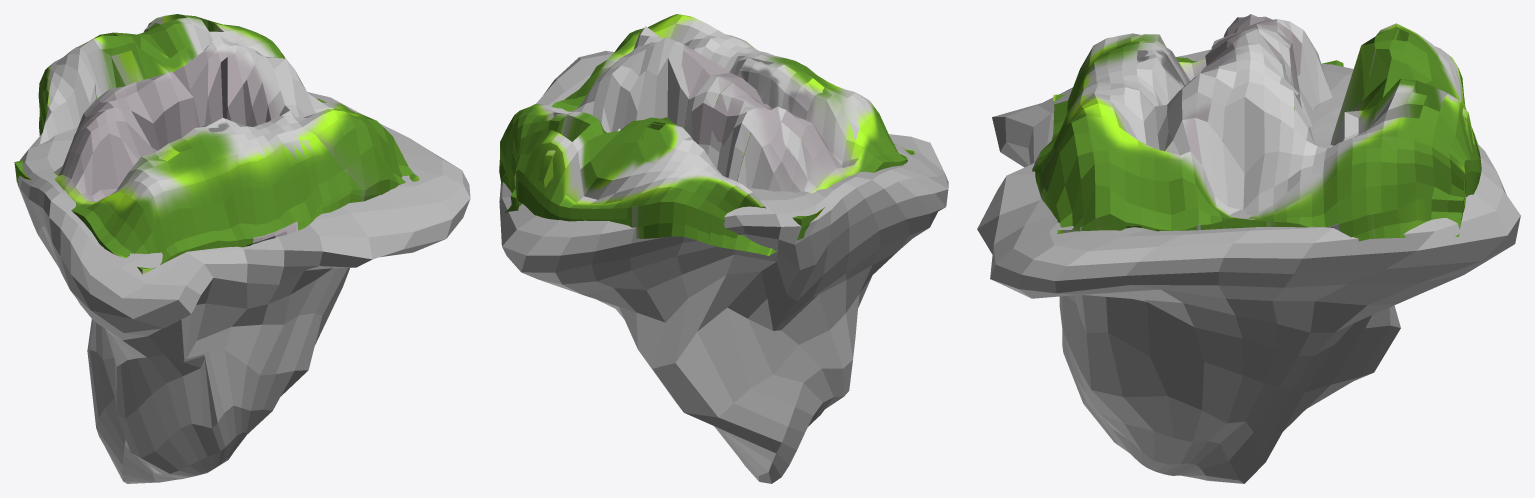
The model's file is landscape.glb.
3 views of the same model, side by side, from view 1: azimuth 30°, elevation 25°; view 2: azimuth 150°, elevation 25°; view 3: azimuth 270°, elevation 25° (orthographic). The views are drawn at different scales.
Visible parts, largest first — view 1: Sphere.002, Landscape.003; view 2: Sphere.002, Landscape.003; view 3: Sphere.002, Landscape.003.
Boxes of the visible parts, box(x1,y1,x2,y2) form: Sphere.002: box(15, 92, 470, 483); Landscape.003: box(14, 14, 419, 274); Sphere.002: box(499, 50, 948, 483); Landscape.003: box(499, 14, 915, 255); Sphere.002: box(977, 49, 1520, 483); Landscape.003: box(1032, 14, 1481, 241).
Size of the model in its own units: 4.9 by 5.26 by 5.12.
2 materials, 1 textured.
